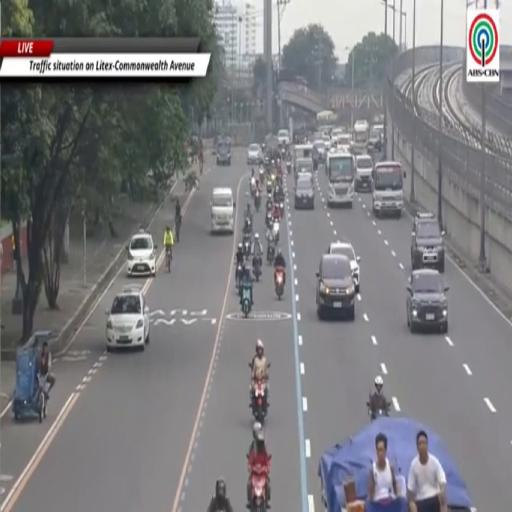car: (106, 286, 149, 350), (316, 254, 356, 321), (407, 269, 448, 332), (411, 213, 444, 273), (328, 242, 360, 293), (127, 230, 157, 276), (355, 155, 373, 192), (294, 176, 314, 209), (216, 140, 231, 165), (369, 125, 383, 151), (313, 139, 326, 163), (297, 168, 314, 185), (248, 143, 261, 165), (277, 130, 290, 146)
motorcycle: (249, 364, 270, 424), (249, 466, 267, 511), (367, 402, 390, 421), (242, 281, 251, 317), (274, 267, 284, 299), (253, 255, 261, 281), (243, 236, 251, 259), (254, 190, 262, 212), (267, 243, 275, 265), (243, 215, 252, 234), (236, 264, 242, 287), (273, 220, 279, 243), (250, 178, 256, 197), (266, 198, 274, 212), (266, 211, 272, 229), (259, 168, 264, 184), (267, 181, 272, 195), (280, 201, 284, 218), (286, 160, 291, 173)
truck: (372, 162, 405, 217), (327, 151, 355, 207), (293, 144, 312, 179), (352, 121, 369, 154)
